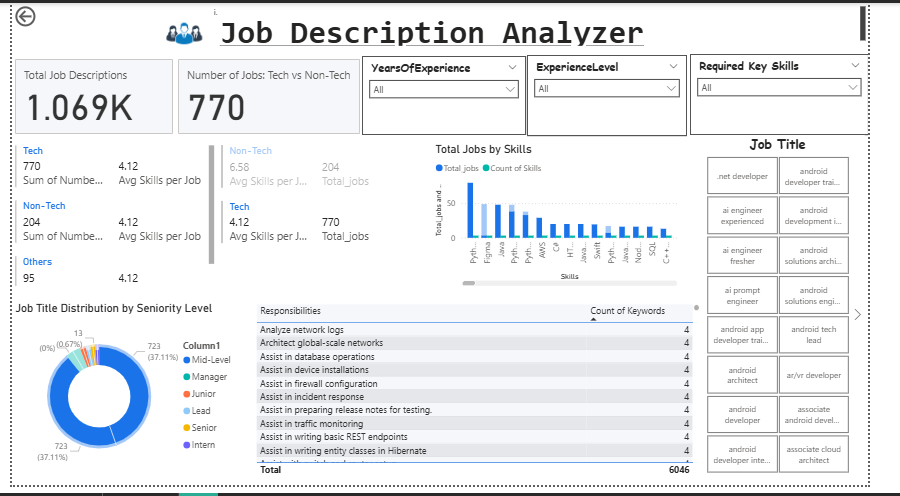

The page's visual inventory and layout, read from the dashboard file:
{"tool":"powerbi","page":{"name":"Page 1","canvas":[1280,720],"ordinal":0},"visuals":[{"type":"cardVisual","fields":{"Data":["KEY MEASURES.Total_Positions"]},"box":[242.9,78.6,281.4,121.4],"z":0},{"type":"multiRowCard","title":"“Average Skills Required by Role Category”","fields":{"Values":["Cleaned_JobPostings.RoleCategory","KEY MEASURES.Avg Skills per Job","KEY MEASURES.Total_jobs"]},"box":[307.7,207.6,298.8,219.6],"z":1000},{"type":"multiRowCard","fields":{"Values":["Sum(JobCategorySummary.Number of Jobs)","KEY MEASURES.Avg Skills per Job","JobCategorySummary.Role Category"]},"box":[0,207.1,307.1,220],"z":2000},{"type":"cardVisual","fields":{"Data":["Sum(JobCategorySummary.Number of Jobs)"]},"box":[0,78.6,245.7,121.4],"z":3000},{"type":"textbox","box":[0,0,1280,68.6],"z":4000},{"type":"slicer","fields":{"Values":["Cleaned_JobPostings.Skills"]},"box":[1012.9,75.7,267.1,121.4],"z":5000},{"type":"slicer","fields":{"Values":["Cleaned_JobPostings.YearsOfExperience"]},"box":[522.8,79.2,245,118],"z":6000},{"type":"slicer","fields":{"Values":["Cleaned_JobPostings.ExperienceLevel"]},"box":[769.3,77.7,239,121],"z":7000},{"type":"clusteredColumnChart","title":"Total Jobs by Skills","fields":{"Category":["Cleaned_JobPostings.Skills"],"Y":["KEY MEASURES.Total_jobs","CountNonNull(RoleCategory.Column1)"]},"box":[627.1,207.1,371.4,220],"z":8000},{"type":"slicer","title":"Job Title","fields":{"Values":["Cleaned_JobPostings.Title"]},"box":[1012.9,197.1,261.4,511.4],"z":9000},{"type":"donutChart","title":"Job Title Distribution by Seniority Level","fields":{"Category":["SeniorityLevel.Column1"],"Y":["CountNonNull(Cleaned_JobPostings.Title)","KEY MEASURES.Total_jobs"]},"box":[0,445.7,341.4,265.7],"z":10000},{"type":"actionButton","box":[0,0,100,40],"z":11000},{"type":"tableEx","fields":{"Values":["responsibilities.Responsibilities","CountNonNull(Sheet1.Keywords)"]},"box":[360,445.1,672.2,265.9],"z":12000},{"type":"image","box":[153.9,0,206.1,91.1],"z":13000}]}

Visuals, with their boxes on the page's 1280x720 design canvas (x1, y1, x2, y2). These are canvas units, not pixel positions in the 900x496 screenshot, which may show the page scaled, cropped or inside an application window:
cardVisual - KEY MEASURES.Total_Positions: [243, 79, 524, 200]
"“Average Skills Required by Role Category”" multiRowCard: [308, 208, 606, 427]
multiRowCard - Sum(JobCategorySummary.Number of Jobs) x KEY MEASURES.Avg Skills per Job: [0, 207, 307, 427]
cardVisual - Sum(JobCategorySummary.Number of Jobs): [0, 79, 246, 200]
textbox: [0, 0, 1280, 69]
slicer - Cleaned_JobPostings.Skills: [1013, 76, 1280, 197]
slicer - Cleaned_JobPostings.YearsOfExperience: [523, 79, 768, 197]
slicer - Cleaned_JobPostings.ExperienceLevel: [769, 78, 1008, 199]
"Total Jobs by Skills" clusteredColumnChart: [627, 207, 998, 427]
"Job Title" slicer: [1013, 197, 1274, 708]
"Job Title Distribution by Seniority Level" donutChart: [0, 446, 341, 711]
actionButton: [0, 0, 100, 40]
tableEx - responsibilities.Responsibilities x CountNonNull(Sheet1.Keywords): [360, 445, 1032, 711]
image: [154, 0, 360, 91]
